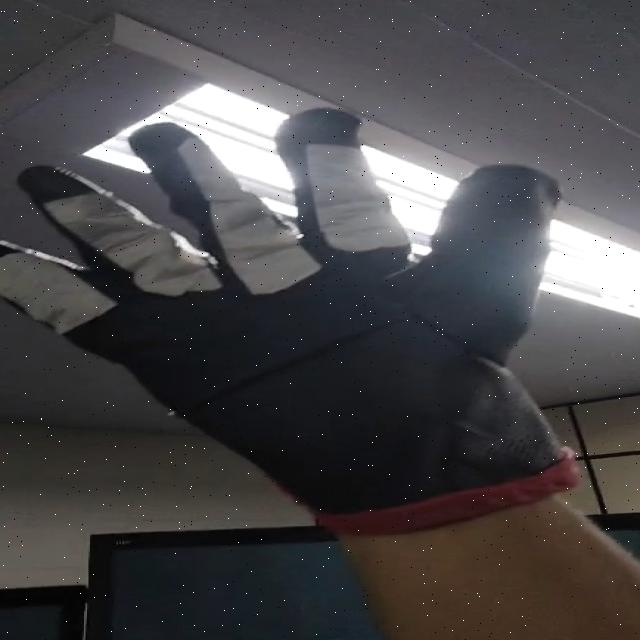Gloves: (0, 108, 574, 530)
